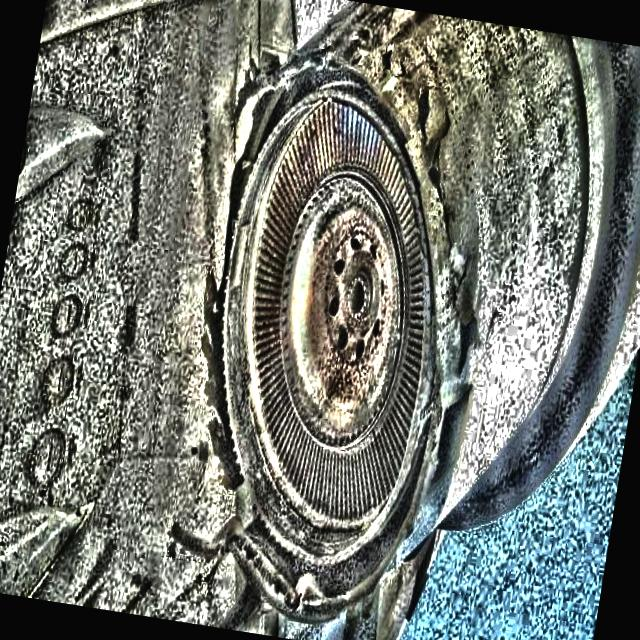crack: (331, 41, 523, 380)
